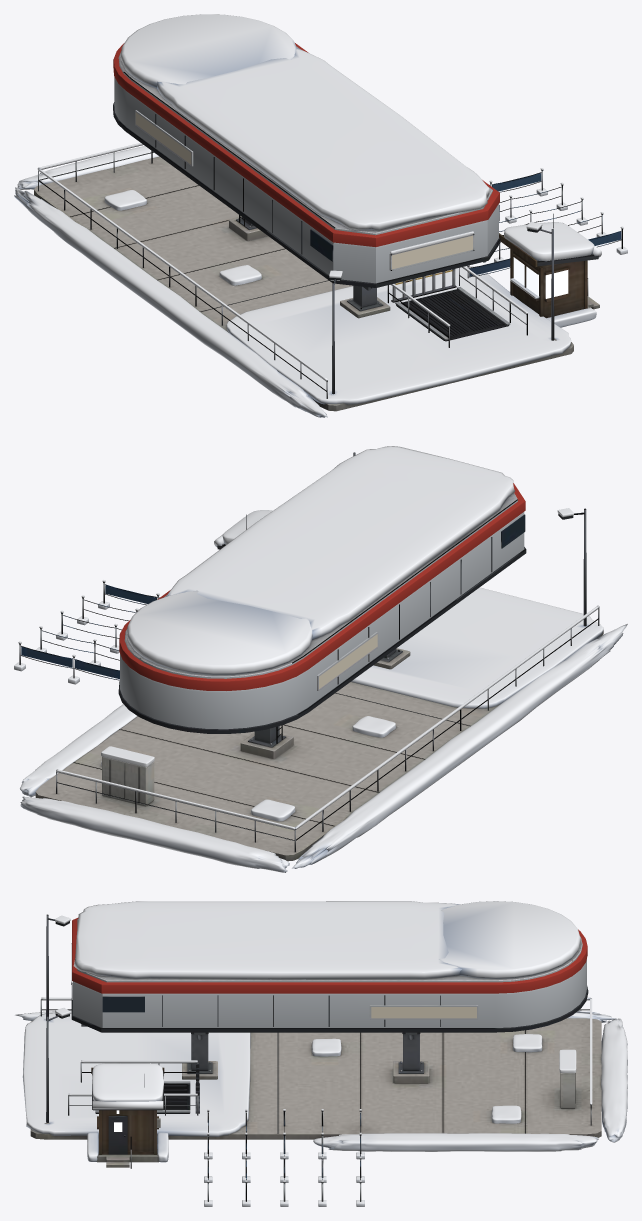
The model's file is terminal_detach_dopp90.glb.
3 views of the same model, one above another, from view 1: azimuth 30°, elevation 25°; view 2: azimuth 150°, elevation 25°; view 3: azimuth 270°, elevation 25° (orthographic). The views are drawn at different scales.
Parts seen in each view (by area): view 1: terminal_detach_dopp90_snow, terminal_detach_dopp90, terminal_detach_dopp90_paint, terminal_detach_dopp90_flat, terminal_detach_dopp90_lit; view 2: terminal_detach_dopp90_snow, terminal_detach_dopp90, terminal_detach_dopp90_paint, terminal_detach_dopp90_flat; view 3: terminal_detach_dopp90_snow, terminal_detach_dopp90, terminal_detach_dopp90_paint, terminal_detach_dopp90_flat.
Boxes of the visible parts, box(x1,y1,x2,y2) form: terminal_detach_dopp90_snow: box(14, 14, 627, 417); terminal_detach_dopp90: box(34, 46, 622, 411); terminal_detach_dopp90_paint: box(113, 43, 499, 283); terminal_detach_dopp90_flat: box(135, 112, 472, 269); terminal_detach_dopp90_lit: box(513, 257, 568, 298); terminal_detach_dopp90_snow: box(14, 446, 627, 872); terminal_detach_dopp90: box(19, 452, 603, 861); terminal_detach_dopp90_paint: box(119, 483, 525, 729); terminal_detach_dopp90_flat: box(319, 634, 377, 688); terminal_detach_dopp90_snow: box(15, 901, 627, 1206); terminal_detach_dopp90: box(30, 914, 601, 1201); terminal_detach_dopp90_paint: box(72, 918, 587, 1027); terminal_detach_dopp90_flat: box(371, 1007, 476, 1018).
Bounding box in the file's own units: 21.41 × 8.26 × 29.03.
Materials: 7 (1 with a texture image).
